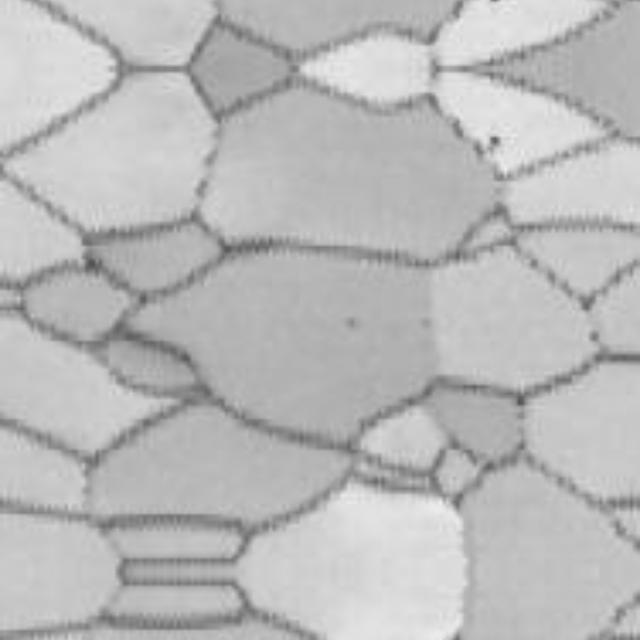good_void: (480, 132, 508, 151)
